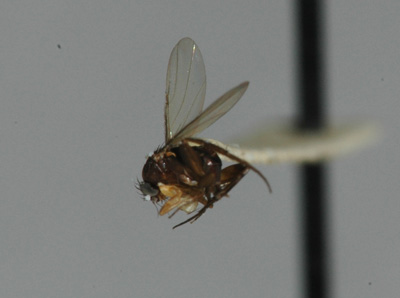phorid fly: (111, 29, 387, 235)
